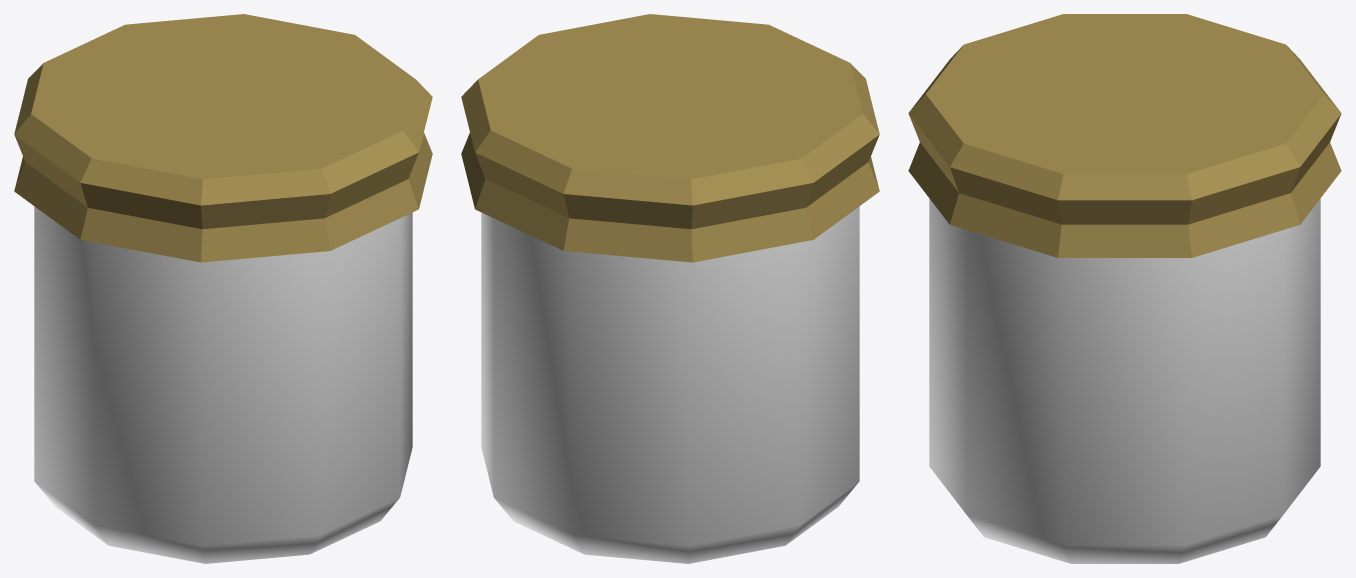
The model's file is Jar_Empty.glb.
3 renders of one model, left to right at view 1: azimuth 30°, elevation 25°; view 2: azimuth 150°, elevation 25°; view 3: azimuth 270°, elevation 25°, orthographic.
Visible parts, largest first — view 1: Jar_Empty.001; view 2: Jar_Empty.001; view 3: Jar_Empty.001.
Part boxes in pixels (x1,y1,x2,y2): Jar_Empty.001: (14, 14, 432, 563); Jar_Empty.001: (461, 14, 879, 563); Jar_Empty.001: (908, 14, 1341, 563).
Size of the model in its own units: 0.1859 by 0.1991 by 0.1954.
Materials: 2 (1 with a texture image).
